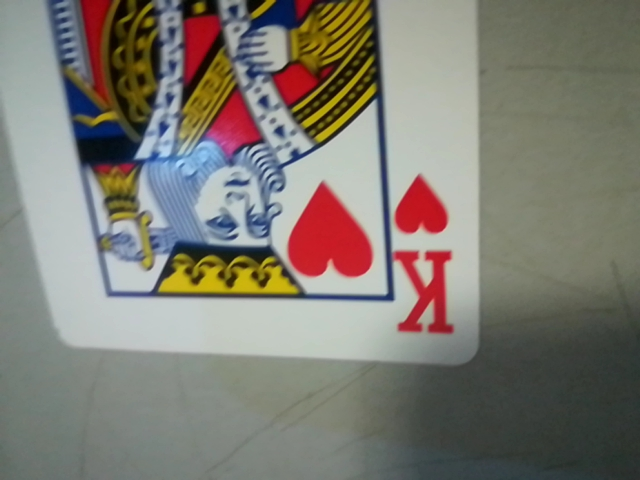hx k: (381, 170, 471, 346)
